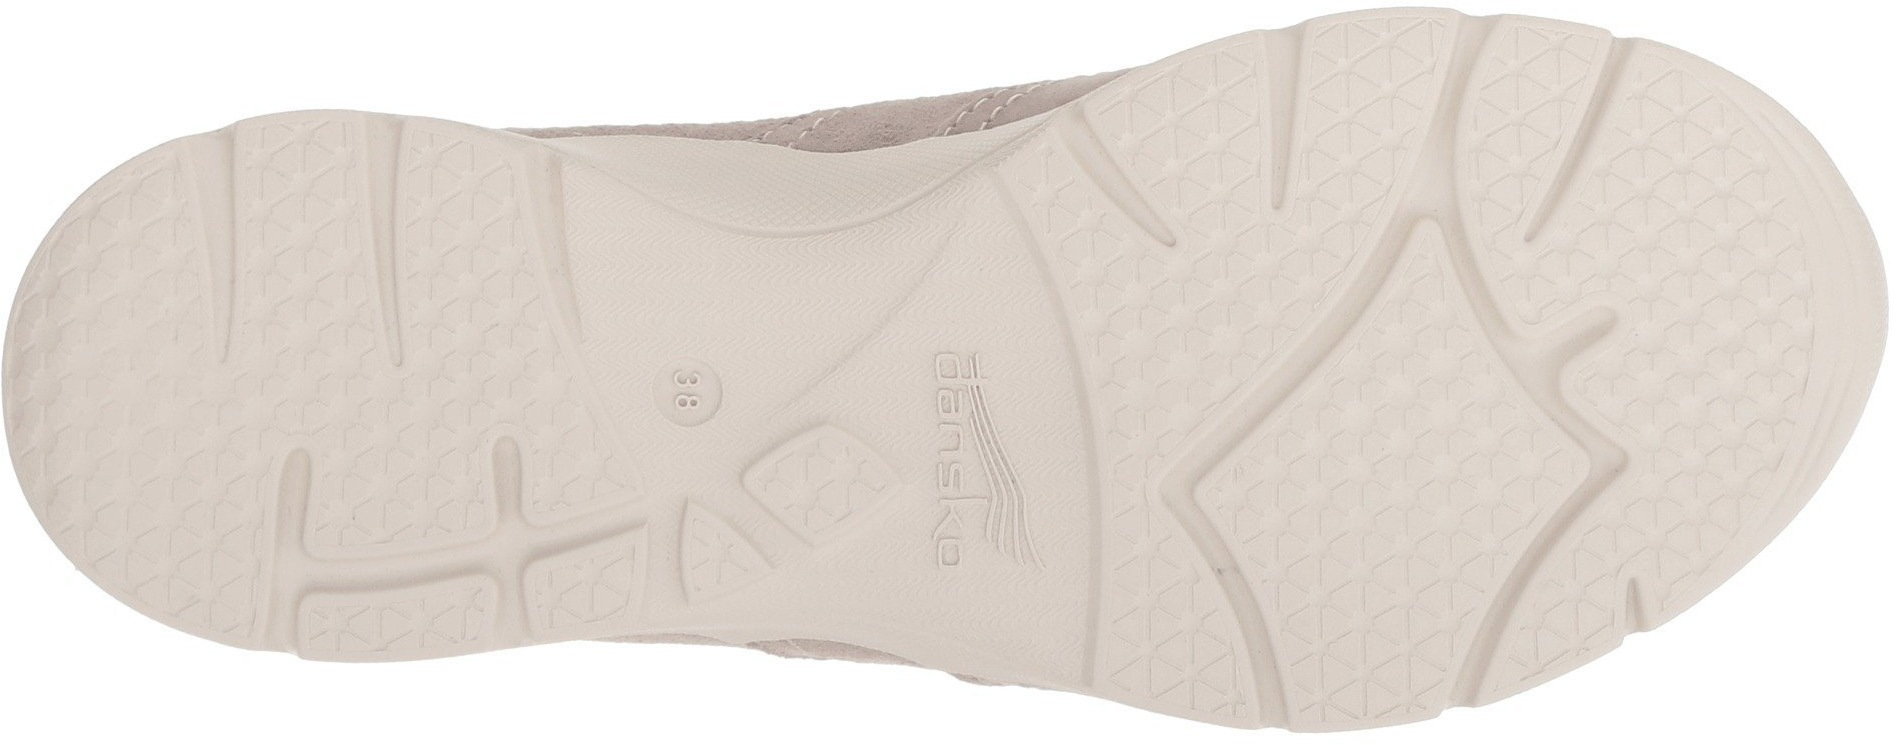circle: (644, 352, 731, 431)
line: (985, 463, 1042, 578)
other: (742, 238, 905, 382)
polygon: (1282, 400, 1493, 649), (40, 256, 217, 489), (225, 229, 381, 420), (276, 554, 512, 674), (402, 256, 542, 428), (1634, 164, 1799, 308), (1125, 64, 1282, 185), (1649, 327, 1788, 458), (1311, 19, 1422, 137)
quad: (276, 554, 512, 674)
text: (907, 340, 1001, 425), (644, 352, 731, 431), (913, 423, 985, 496), (922, 491, 986, 571), (665, 366, 713, 415)
triangle: (1125, 86, 1713, 594), (98, 163, 541, 574), (1282, 400, 1493, 649), (40, 256, 217, 489), (1634, 164, 1799, 308), (1125, 64, 1282, 185), (1649, 327, 1788, 458), (1311, 19, 1422, 137)
